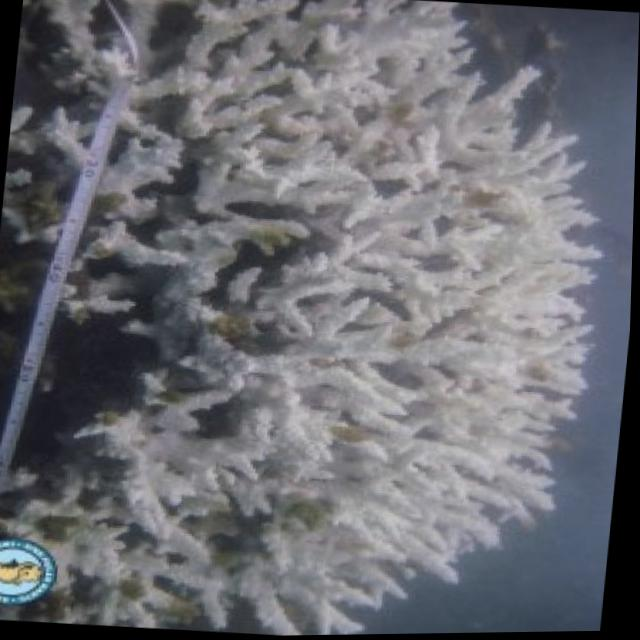Bleached Coral: (0, 0, 632, 640)
